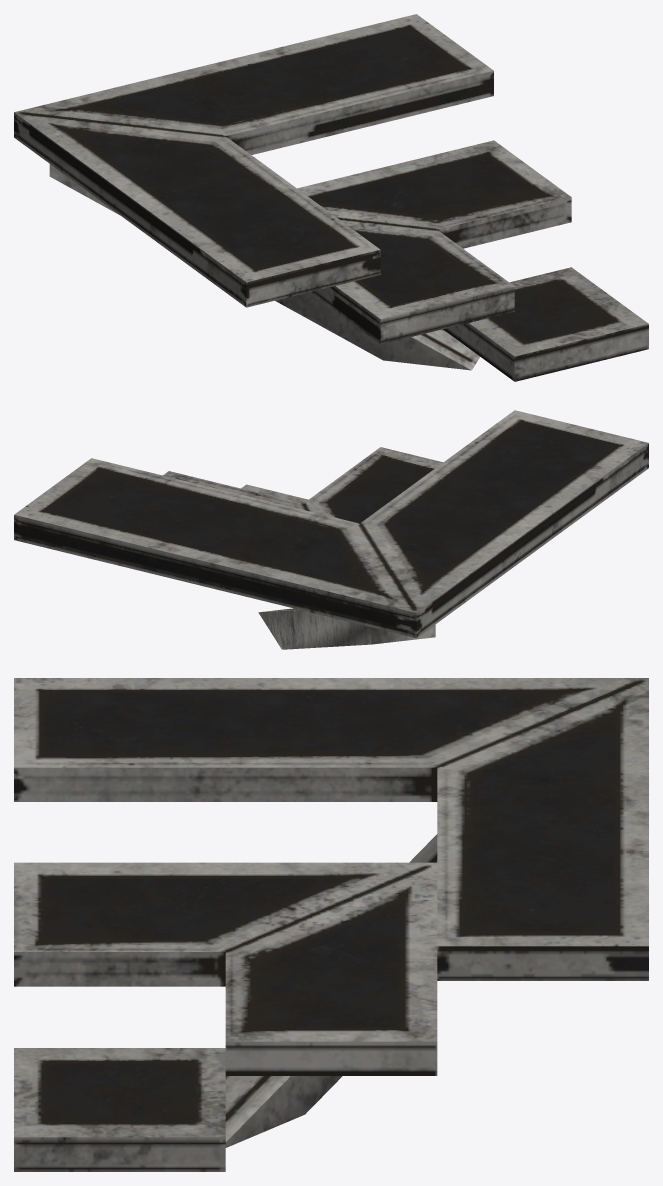
Rendered from SM_stair_corner_inner.fbx.
3 renders of one model, top to bottom at view 1: azimuth 30°, elevation 25°; view 2: azimuth 150°, elevation 25°; view 3: azimuth 270°, elevation 25°, orthographic. The views are drawn at different scales.
Visible parts, largest first — view 1: stair_inner_corner; view 2: stair_inner_corner; view 3: stair_inner_corner.
Part boxes in pixels (x1=…): stair_inner_corner: x1=14, y1=14, x2=648, y2=381; stair_inner_corner: x1=14, y1=410, x2=648, y2=649; stair_inner_corner: x1=14, y1=678, x2=648, y2=1171.
Size of the model in its own units: 1 by 0.4568 by 1.
